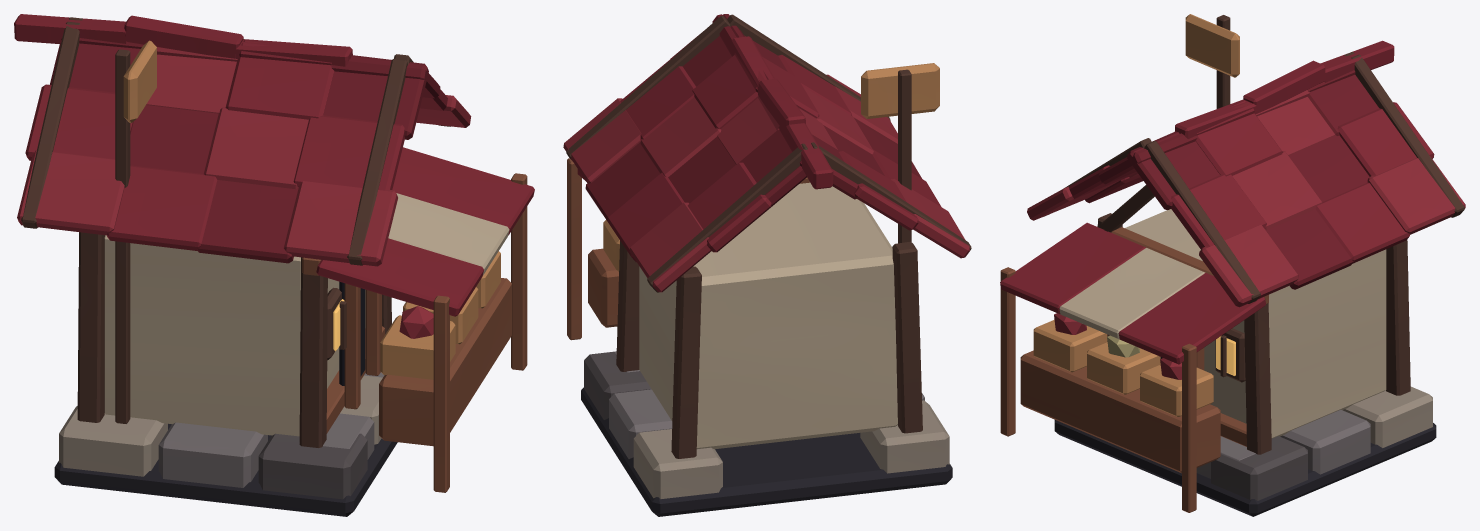
File: building_market-BbHujR60.glb
The picture shows the model from 3 angles, left to right: view 1: azimuth 30°, elevation 25°; view 2: azimuth 150°, elevation 25°; view 3: azimuth 270°, elevation 25°; orthographic projection. The views are drawn at different scales.
Parts seen in each view (by area): view 1: building_market_l1_body; view 2: building_market_l1_body; view 3: building_market_l1_body.
Boxes of the visible parts, x1=… form: building_market_l1_body: x1=14, y1=14, x2=534, y2=516; building_market_l1_body: x1=563, y1=14, x2=971, y2=516; building_market_l1_body: x1=1000, y1=14, x2=1465, y2=516.
Bounding box in the file's own units: 1.05 × 0.91 × 1.05.
Materials: 2 (2 with a texture image).
